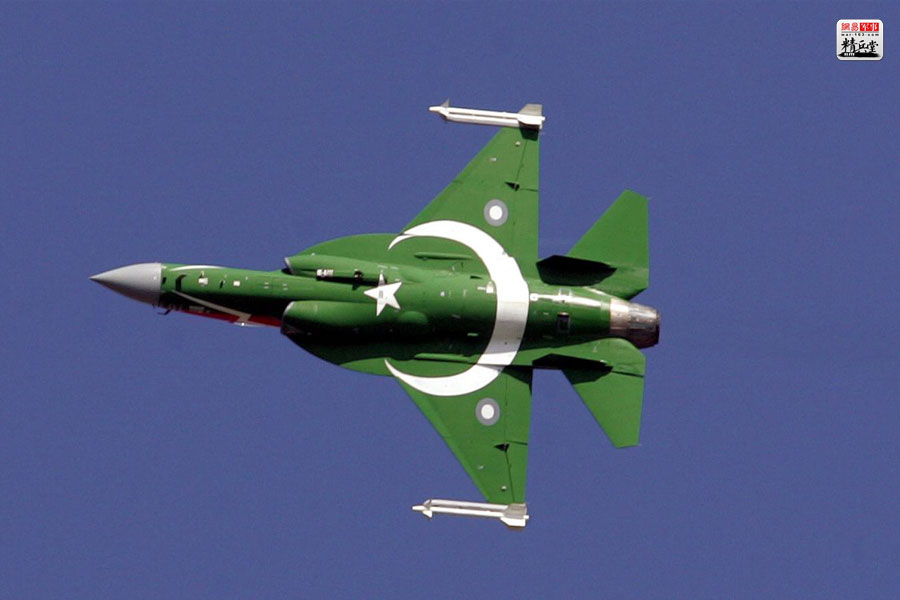airplane: (80, 99, 664, 531)
